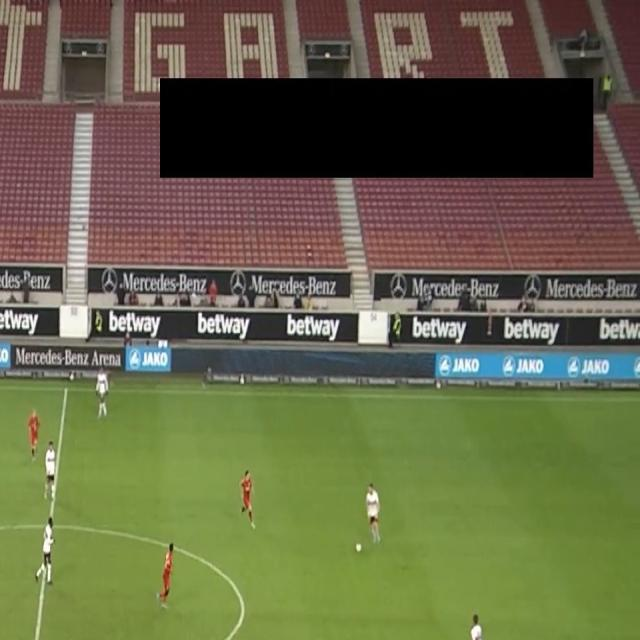ball: (355, 540, 364, 554)
